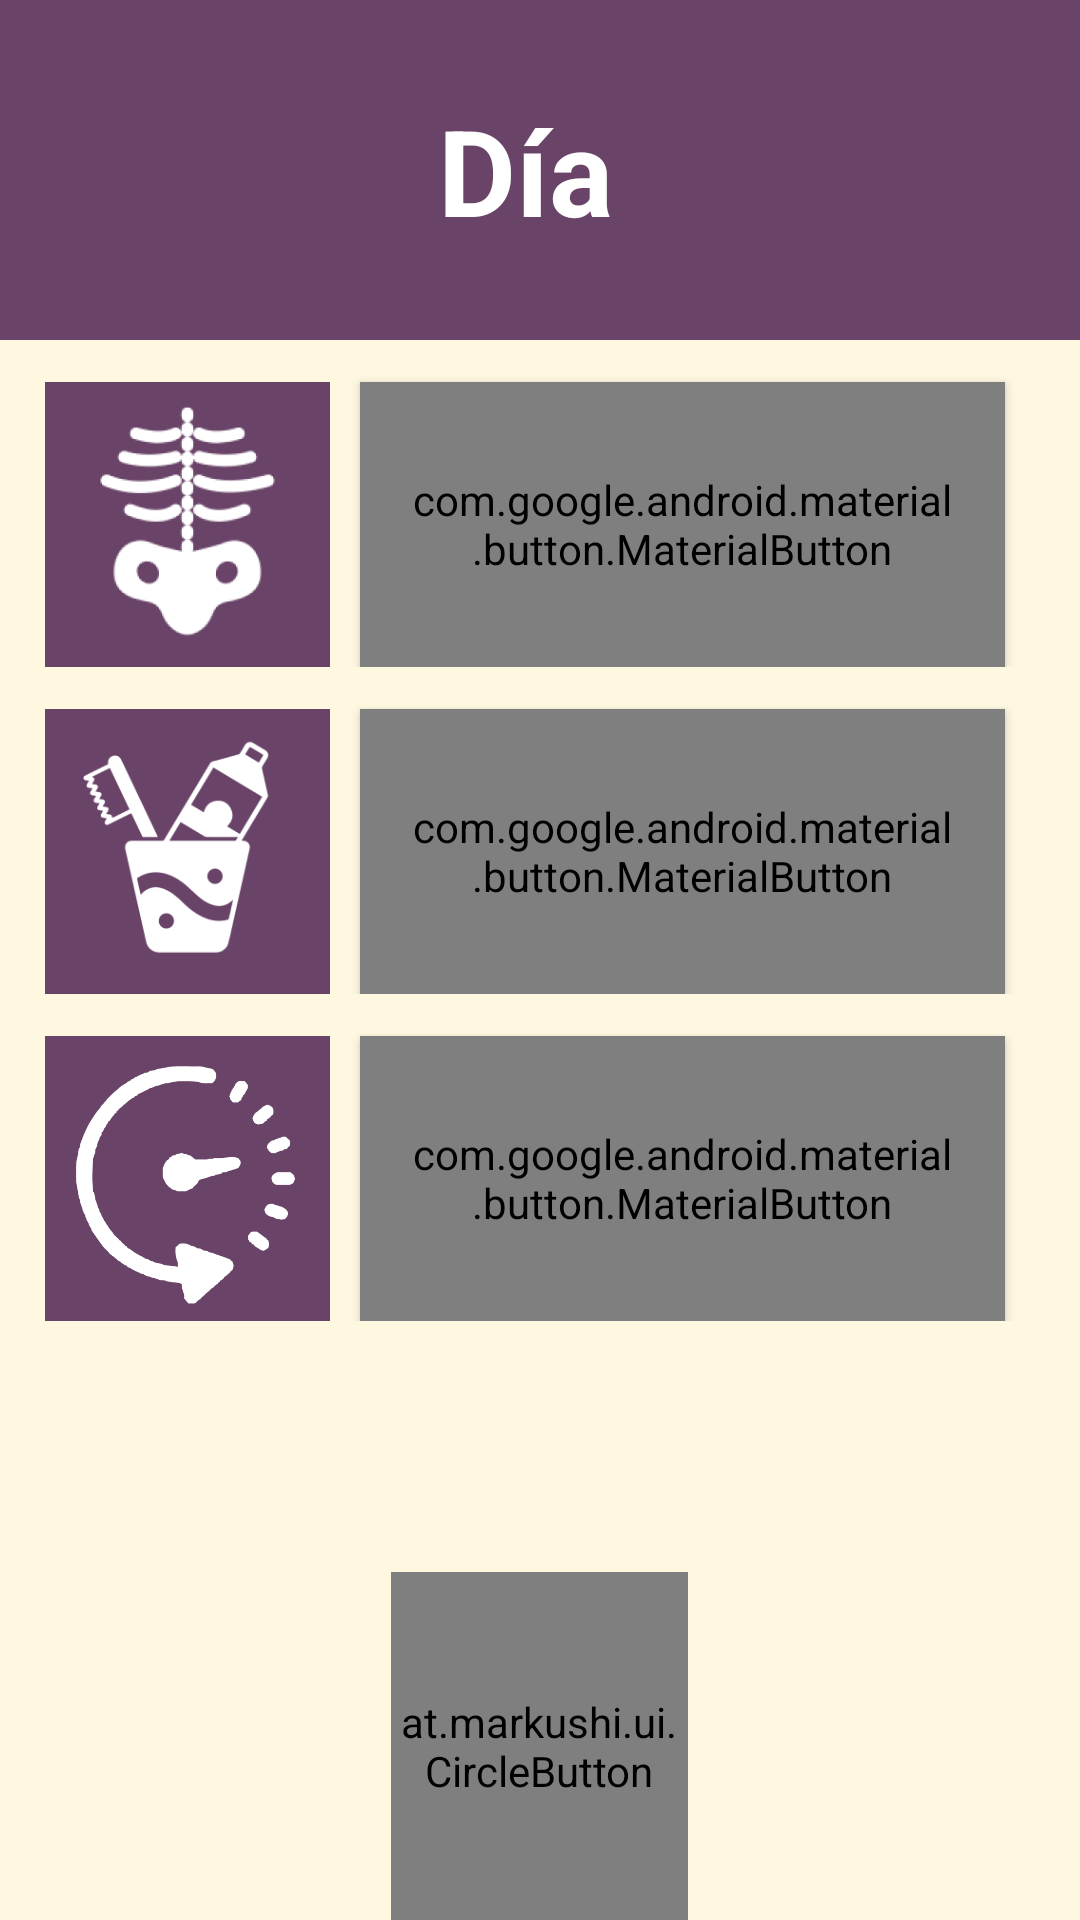

Icons on this 1080 x 1920 Android screen, each with its box as (x1, y1, x2, y2):
bodyscan: (45, 382, 330, 667)
brush: (45, 709, 330, 994)
